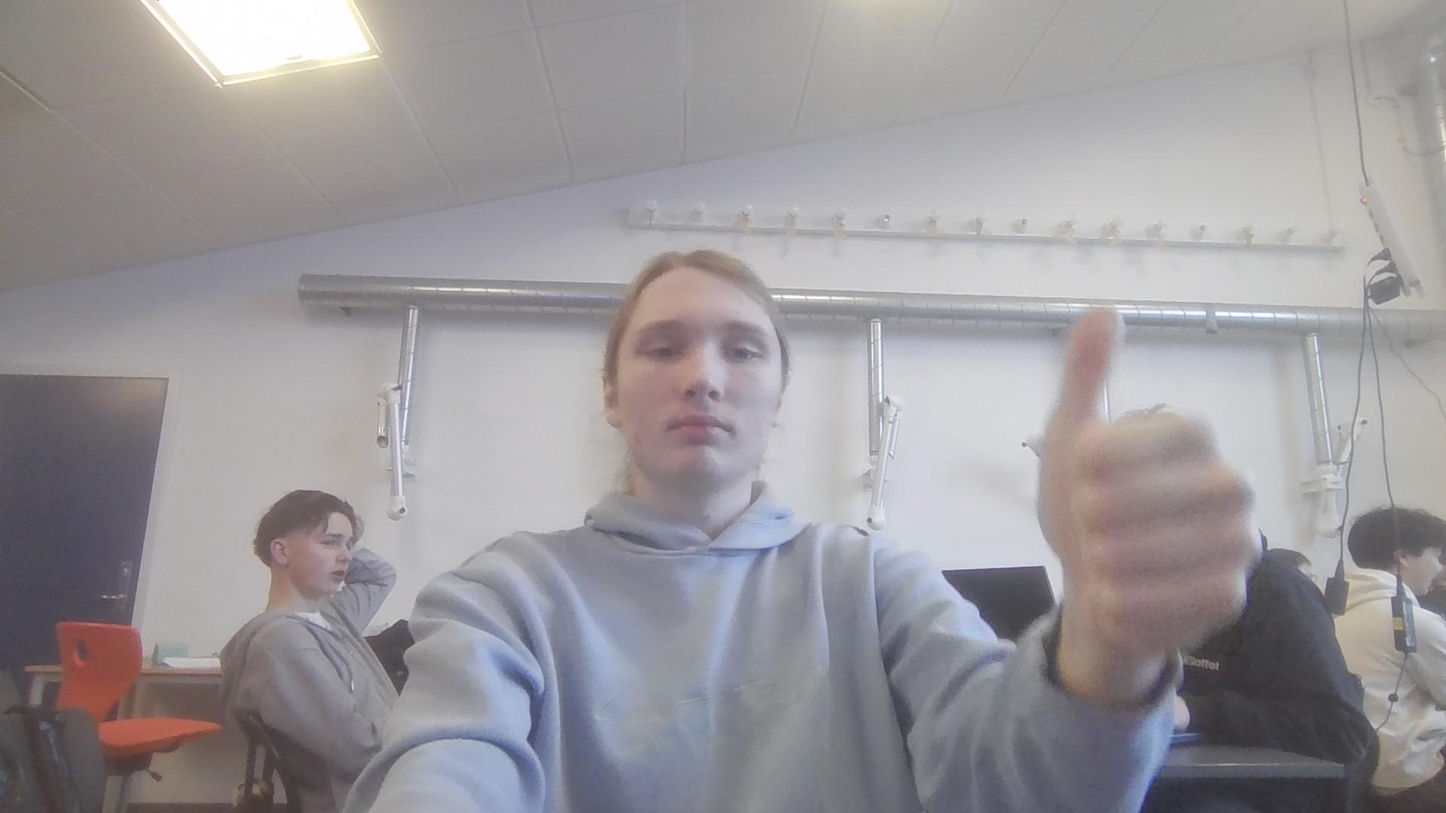thumbs up: (1039, 304, 1259, 642)
